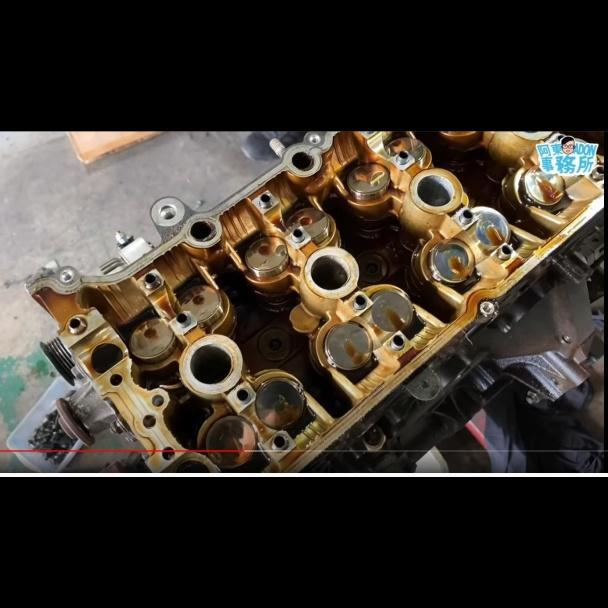hole: (139, 414, 159, 430), (158, 204, 177, 220), (476, 301, 496, 316), (150, 392, 163, 408), (108, 373, 123, 386), (60, 270, 74, 283), (306, 132, 320, 144), (562, 332, 571, 346)
